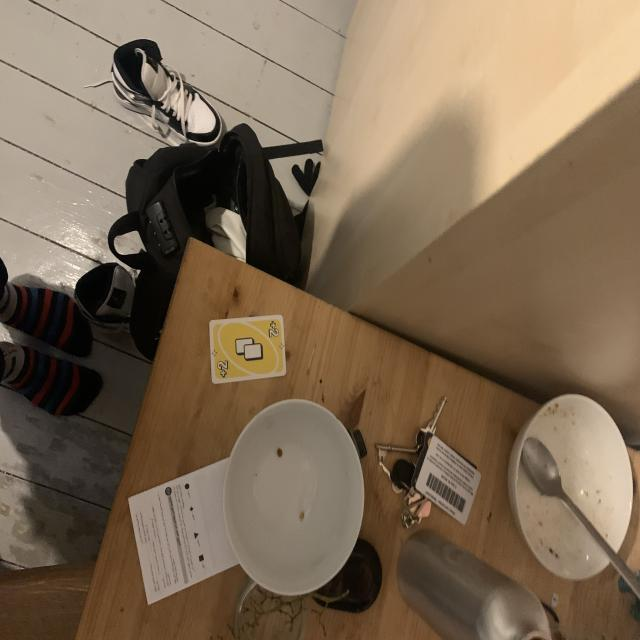lyellow-20: (264, 318, 280, 341)
